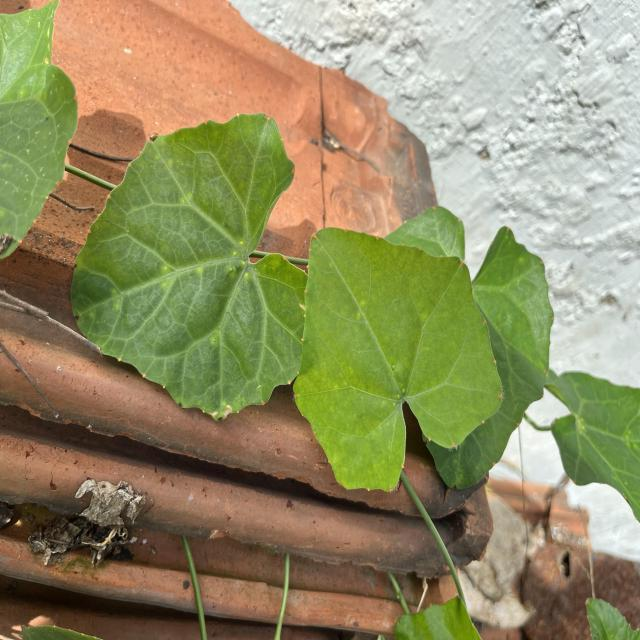Coccinia grandis: (69, 112, 310, 424), (292, 223, 504, 494)
